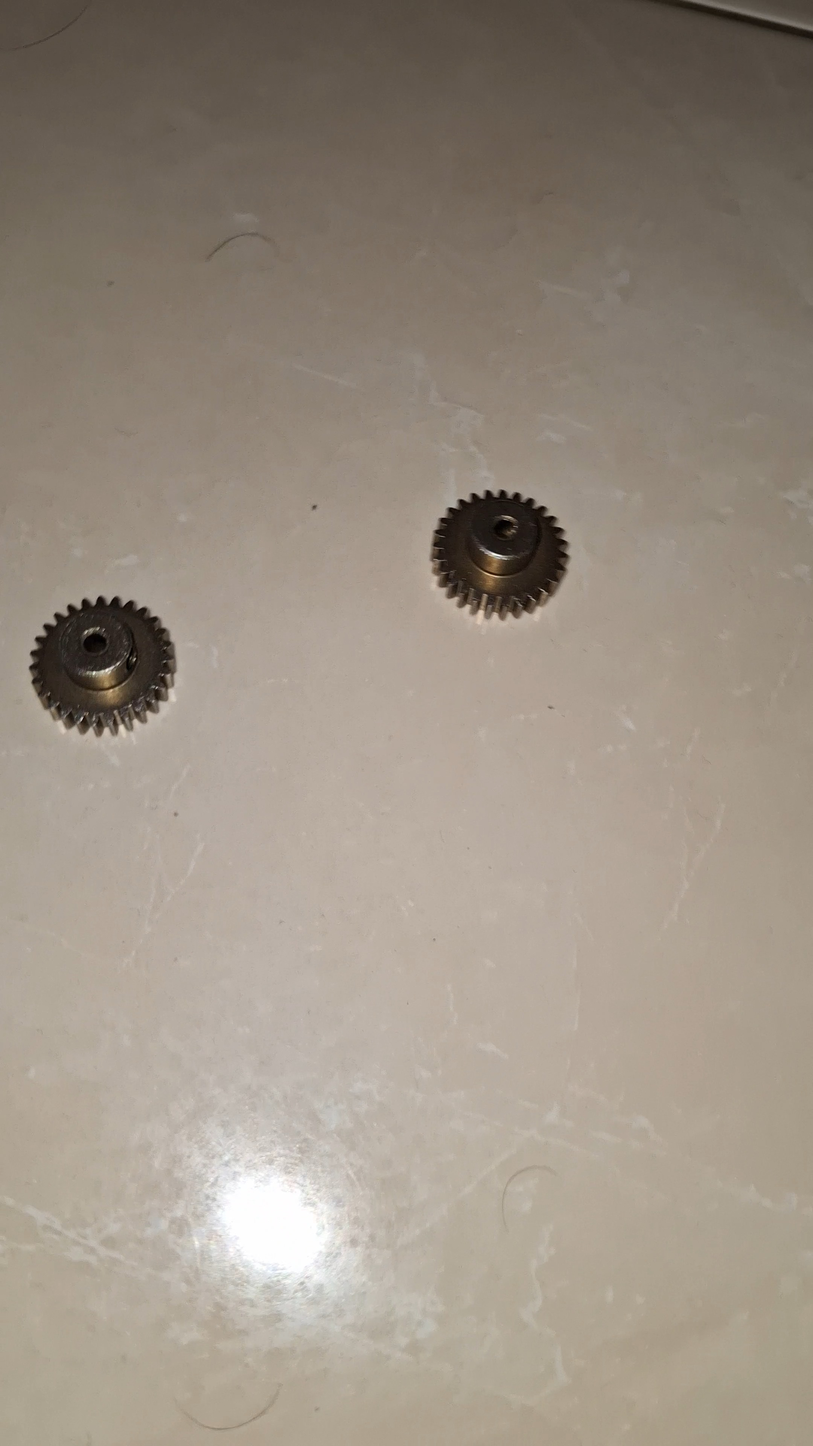spur gear: (30, 597, 175, 735), (432, 491, 568, 617)
